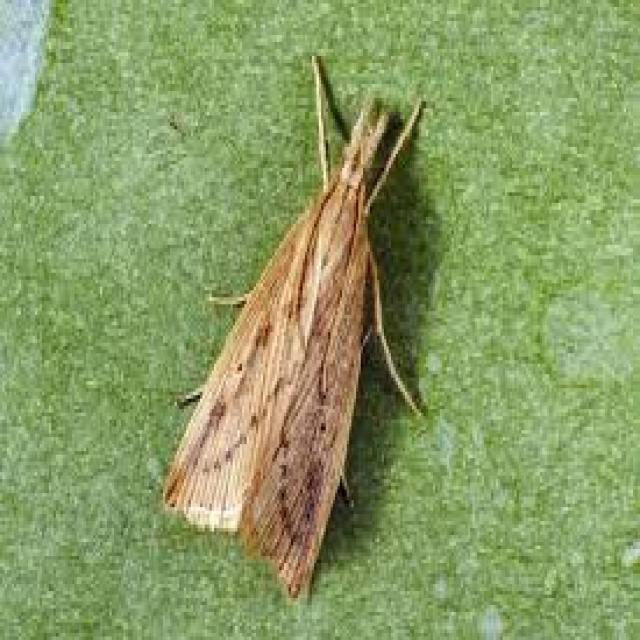yellow-stem-borer: (152, 47, 474, 601)
